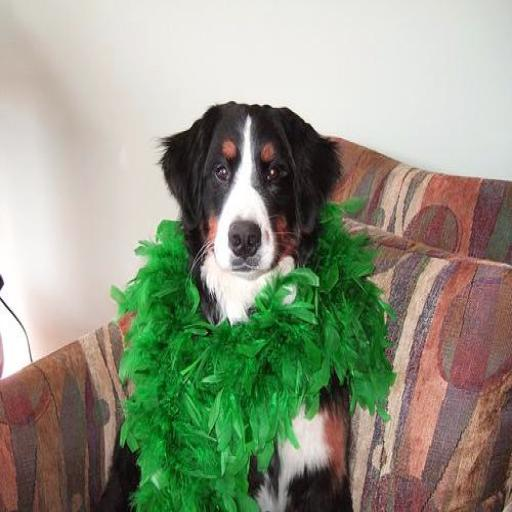dog_face: (163, 96, 334, 281)
